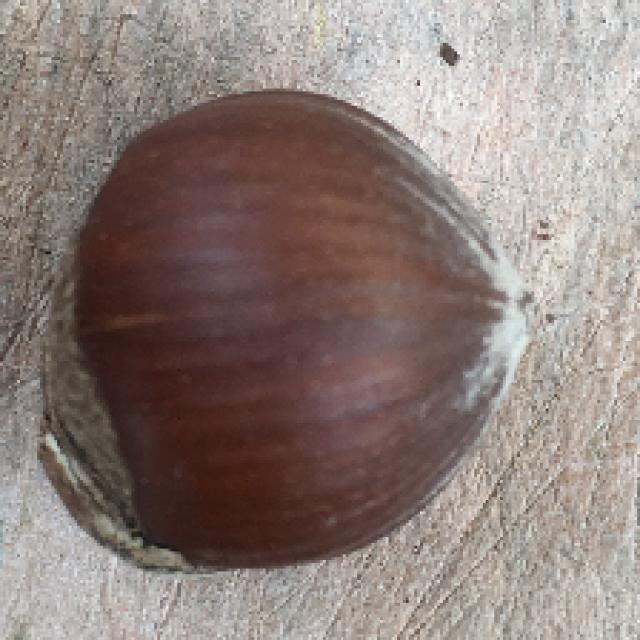damagedHazelnut: (44, 81, 535, 584)
